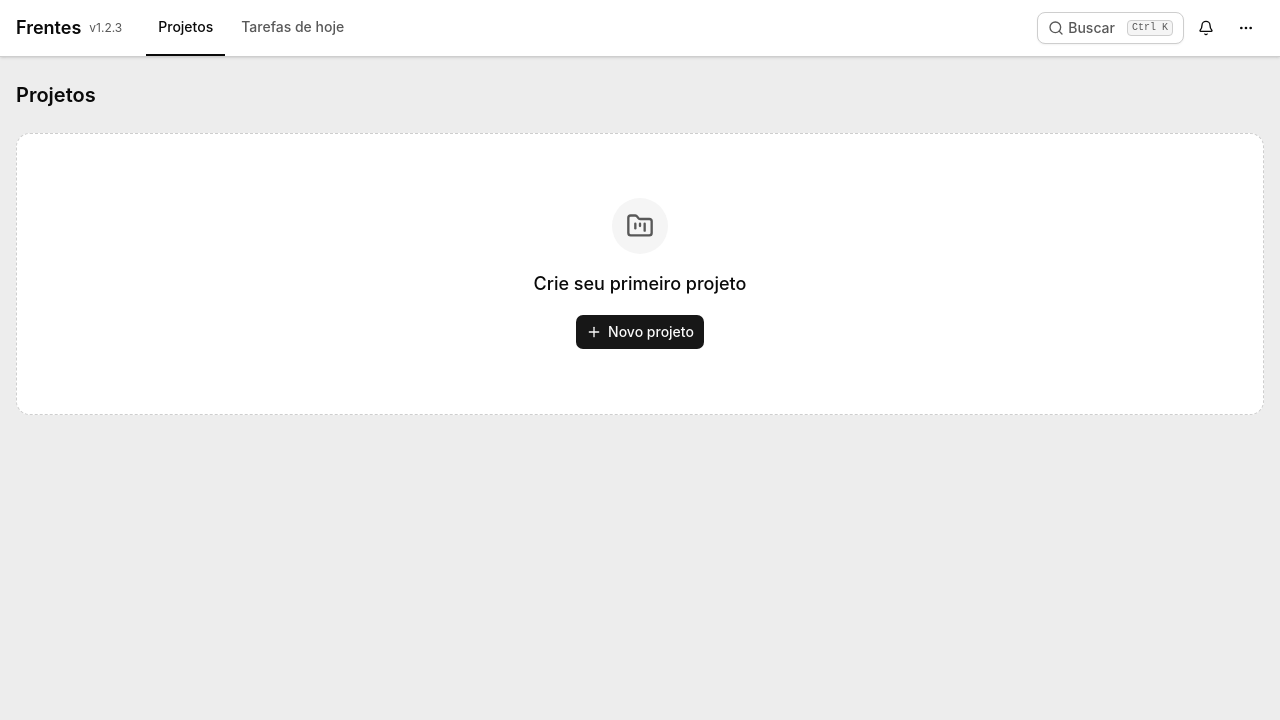
Test: BuscaGlobal (01 §3, RN-120..121) › sem resultados: "Nada encontrado para …"
Click the button "Buscar Ctrl K": (1111, 28) left=1037, top=12, right=1184, bottom=44
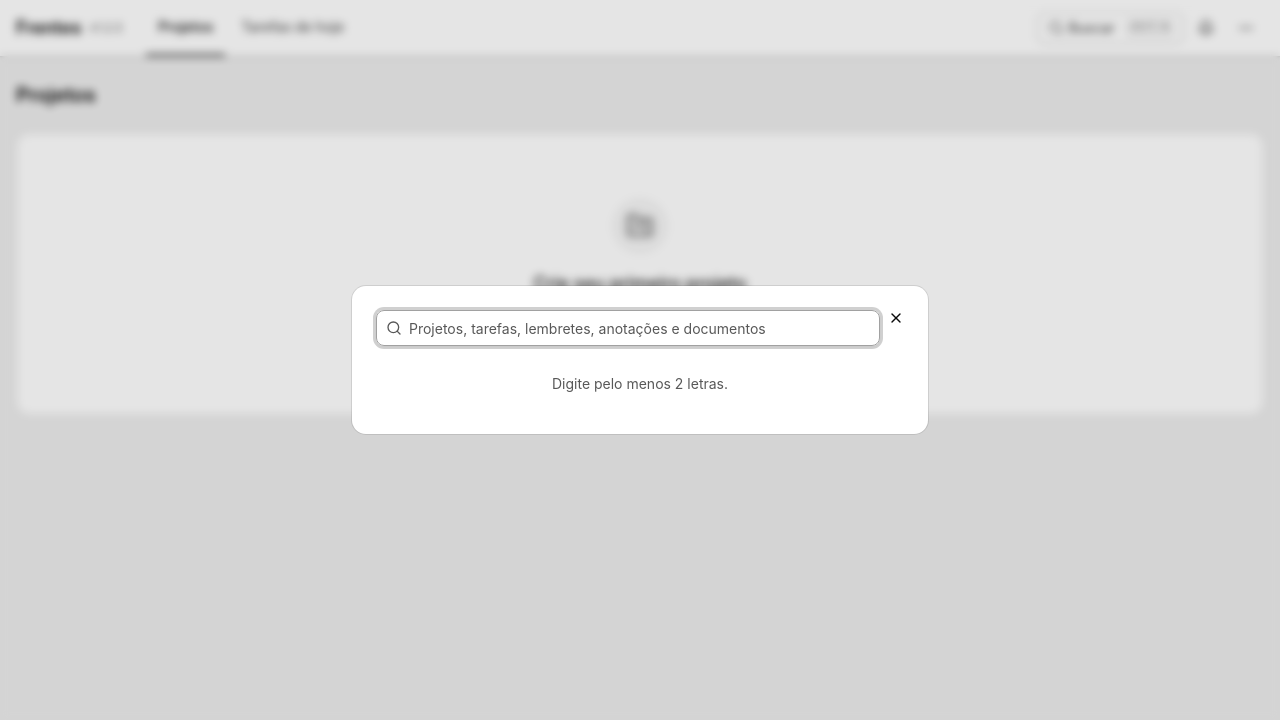
In the search field named "Buscar": (628, 328) left=376, top=310, right=880, bottom=346, type "xyz"
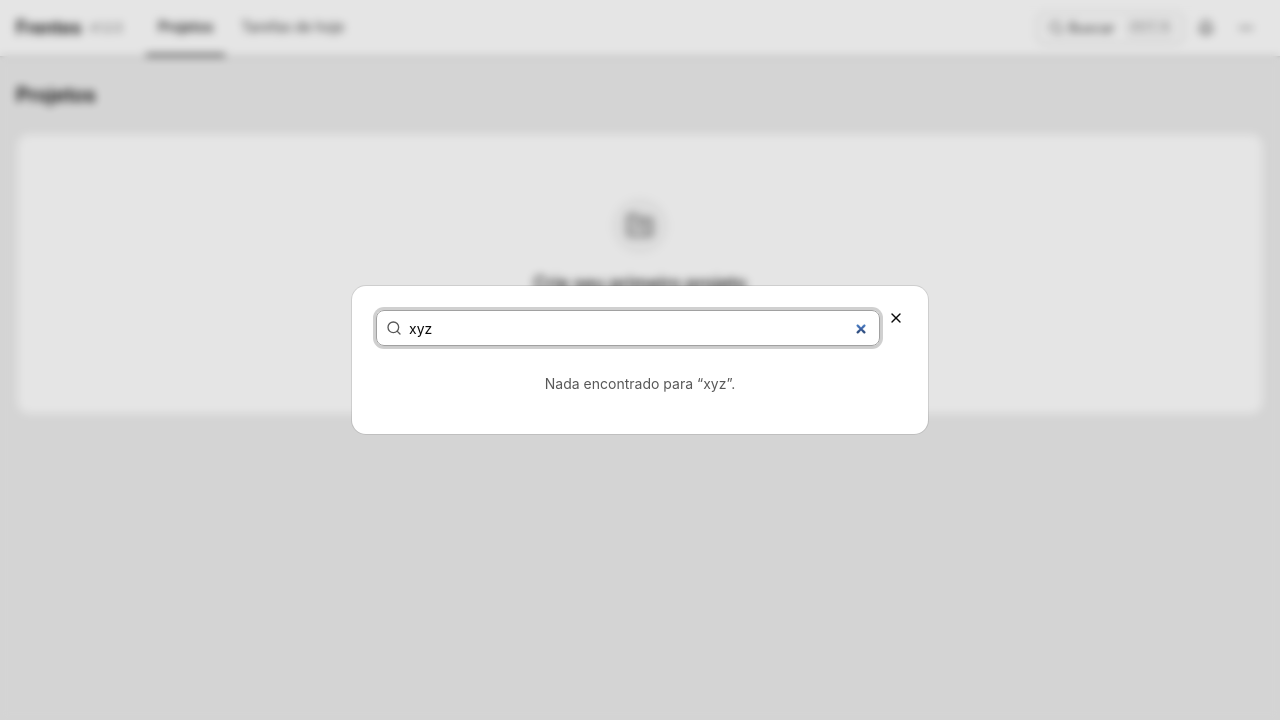
Check: the text "Nada encontrado para “xyz”." is shown, box left=545, top=375, right=735, bottom=392
